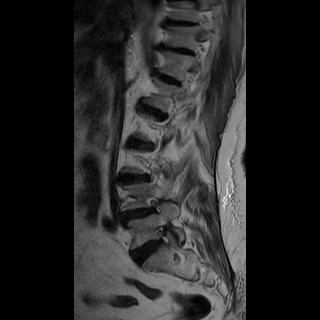RFS1: (148, 221, 174, 251)
